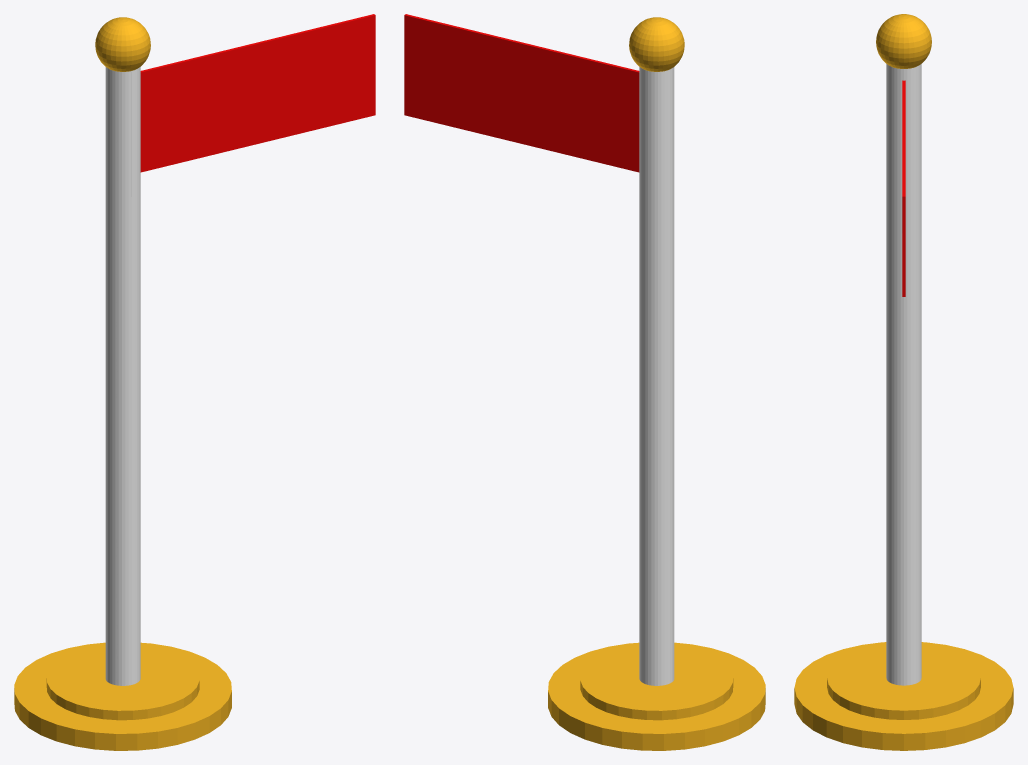
The model's file is FlagPole.fbx.
3 views of the same model, side by side, from view 1: azimuth 30°, elevation 25°; view 2: azimuth 150°, elevation 25°; view 3: azimuth 270°, elevation 25° (orthographic).
Visible parts, largest first — view 1: Cylinder; view 2: Cylinder; view 3: Cylinder.
Part boxes in pixels (bbox=[...]): Cylinder: bbox=[14, 14, 375, 750]; Cylinder: bbox=[404, 14, 765, 750]; Cylinder: bbox=[794, 14, 1013, 750].
Bounding box in the file's own units: 139 × 263 × 75.93.
1 material, 1 textured.
